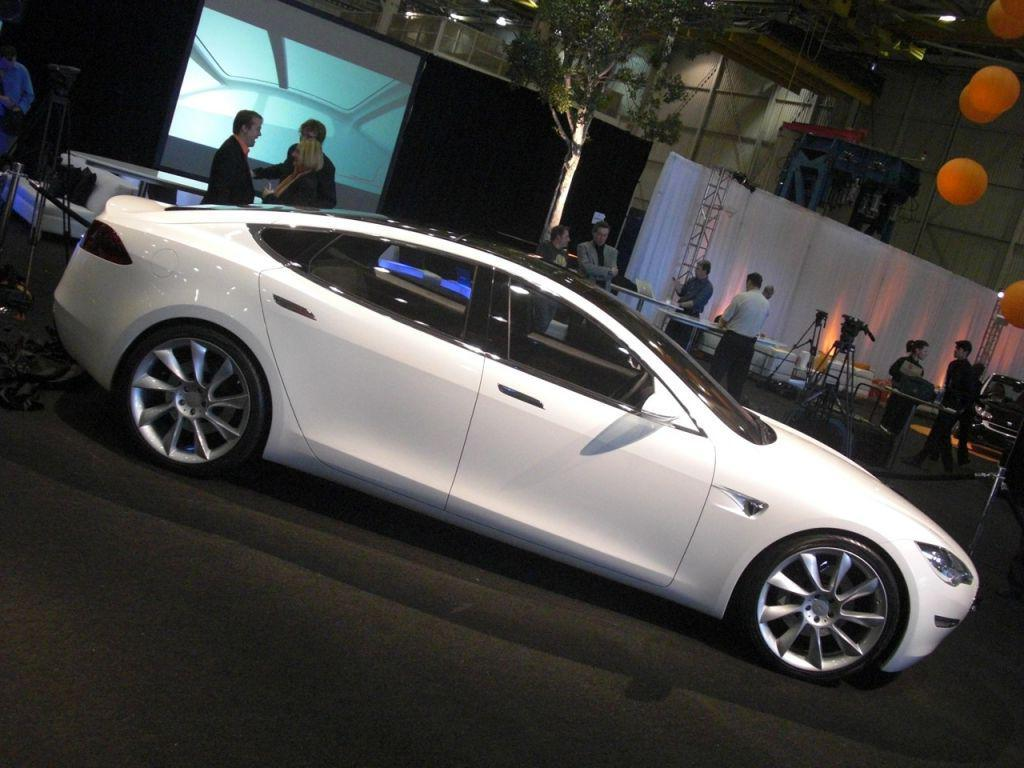Car: (42, 151, 999, 704)
